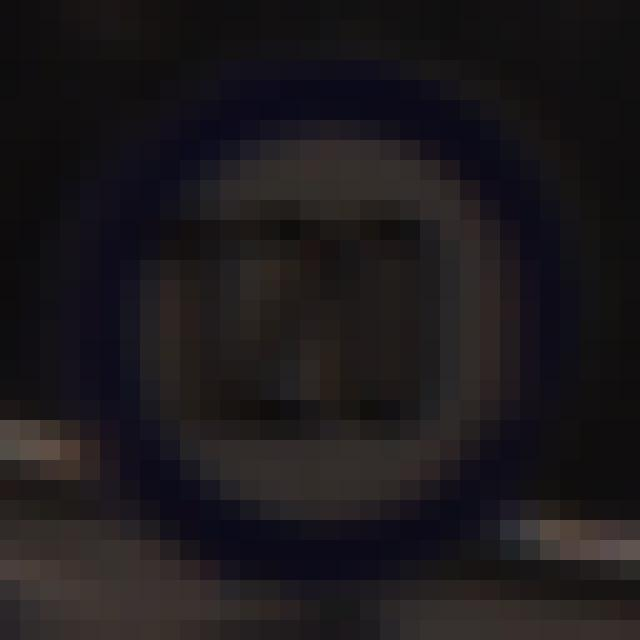SPEED LIMIT 120: (69, 91, 548, 554)
